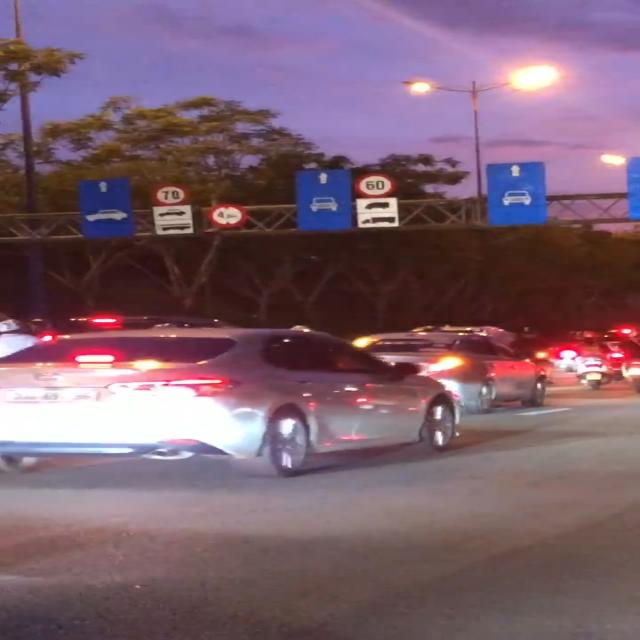Bien bao han che chieu cao: (206, 203, 249, 230)
Bien bao toc do toi da cho phep: (355, 171, 398, 201), (156, 182, 194, 206)
